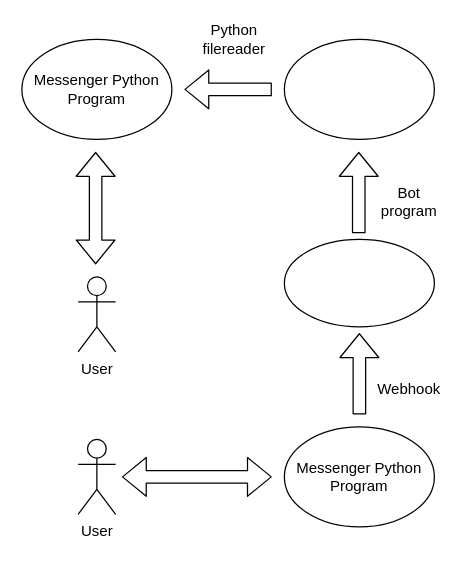
This 463x563 diagram has some shape labels left out. The centre of each missing label's shape, as x and y in pixels:
"Discord Server" belongs at pixel 358 282.
"User Device" belongs at pixel 358 88.
